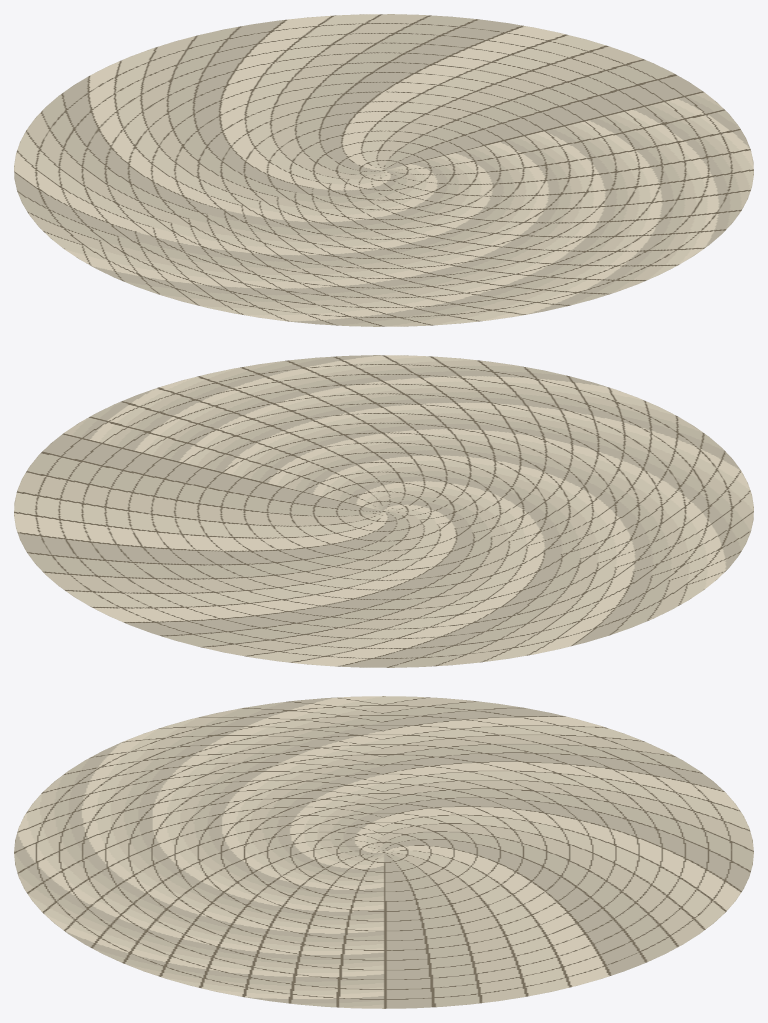
The model's file is plaza_cobble.glb.
3 renders of one model, top to bottom at view 1: azimuth 30°, elevation 25°; view 2: azimuth 150°, elevation 25°; view 3: azimuth 270°, elevation 25°, orthographic.
Parts seen in each view (by area): view 1: Circle; view 2: Circle; view 3: Circle.
Part boxes in pixels (x1,y1,x2,y2): Circle: (14, 14, 753, 326); Circle: (14, 355, 753, 667); Circle: (14, 696, 753, 1008).
Bounding box in the file's own units: 44 × 0 × 44.
1 material, 1 textured.
